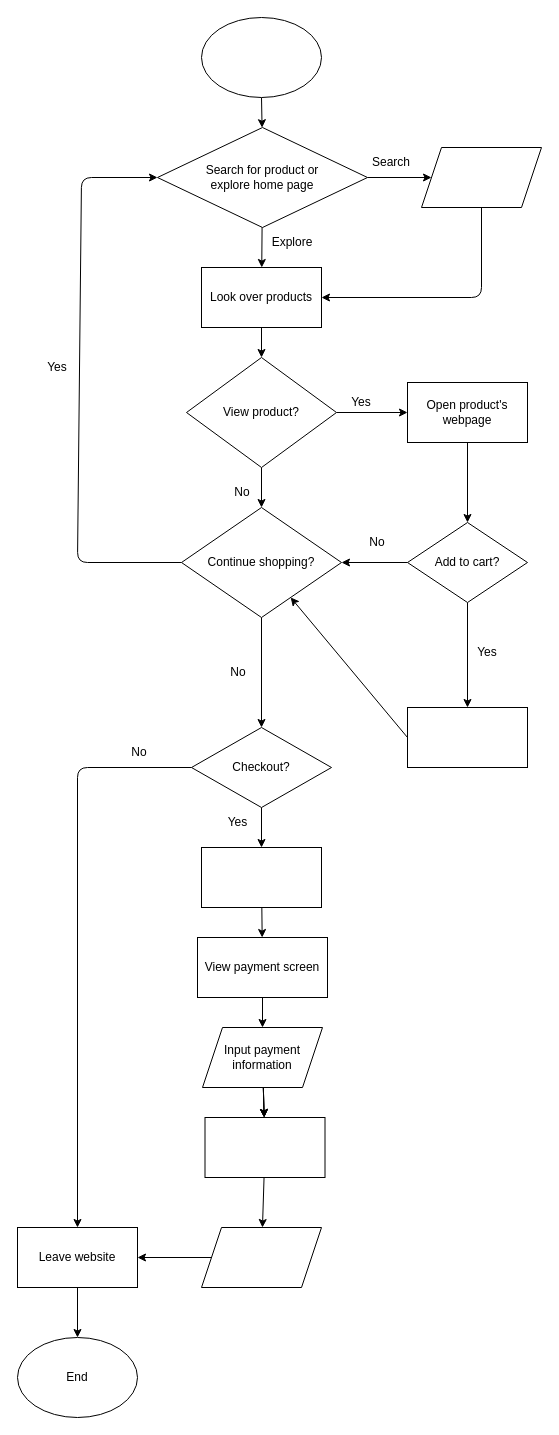
This 559x1435 diagram has some shape labels left out. The shapes that lost their labels are listed below. From the top down, each one's centre as x and y in pixels, then its label:
(x=261, y=57): Start
(x=481, y=177): Input search
(x=467, y=737): Add to cart confirmation
(x=261, y=877): View cart screen
(x=264, y=1147): Order confirmation screen
(x=261, y=1257): Receive email for order
